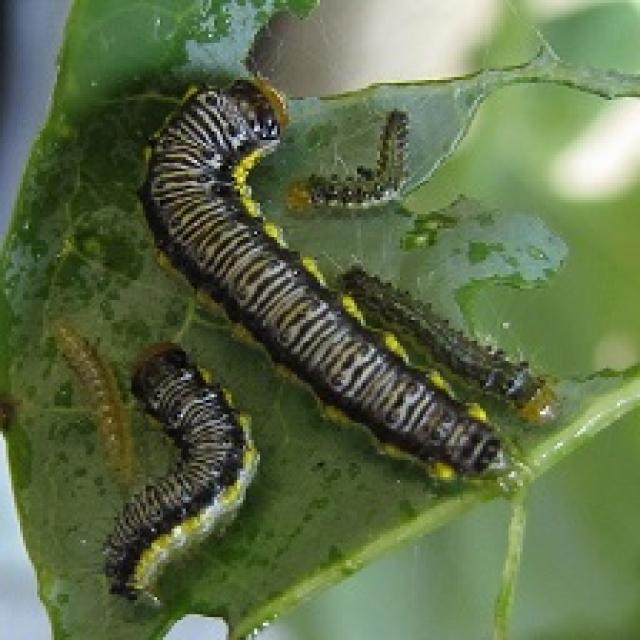Cabbage-worm: (159, 73, 569, 502), (347, 241, 573, 436), (124, 336, 253, 632), (289, 96, 426, 241)
